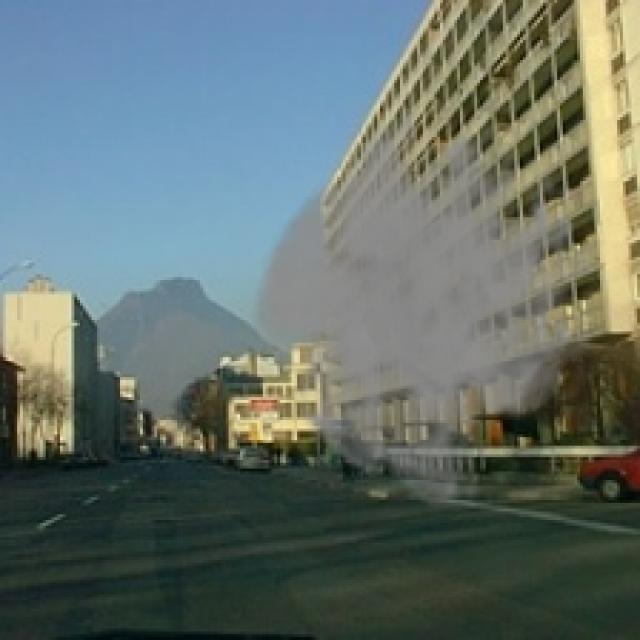Smoke: (248, 94, 594, 517)
